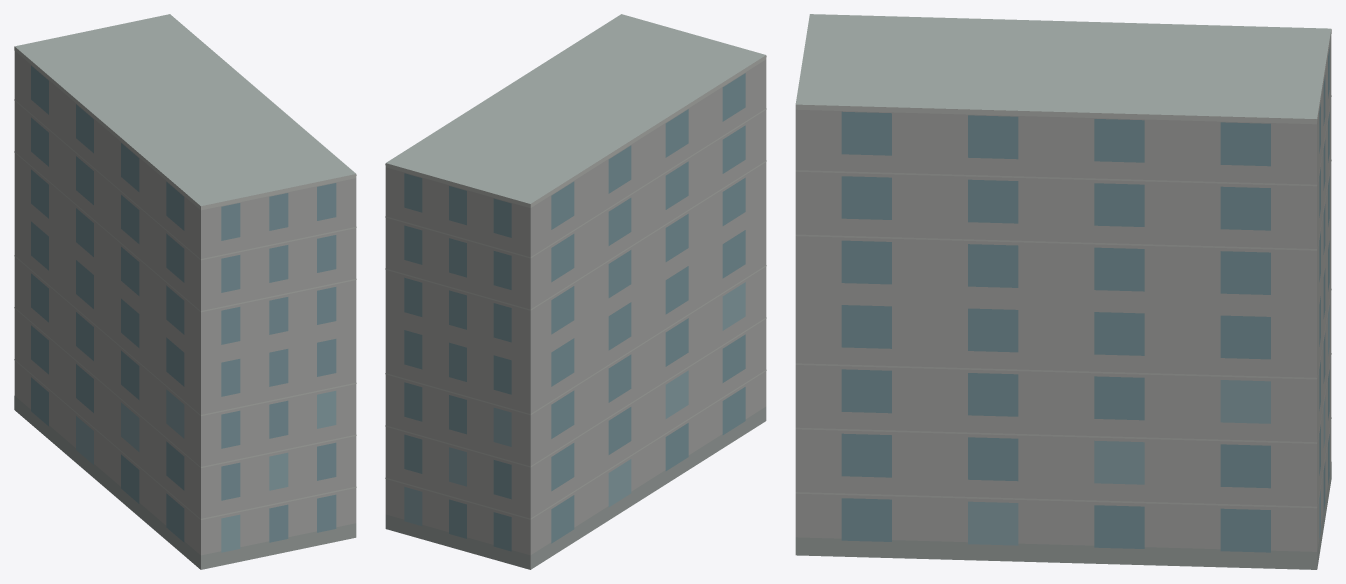
File: survey-upis-32765919.glb
3 views of the same model, side by side, from view 1: azimuth 30°, elevation 25°; view 2: azimuth 150°, elevation 25°; view 3: azimuth 270°, elevation 25° (orthographic). The views are drawn at different scales.
Visible parts, largest first — view 1: survey-upis-32765919.tmp; view 2: survey-upis-32765919.tmp; view 3: survey-upis-32765919.tmp.
Boxes of the visible parts, bbox=[...] form: survey-upis-32765919.tmp: bbox=[14, 14, 356, 569]; survey-upis-32765919.tmp: bbox=[385, 14, 766, 569]; survey-upis-32765919.tmp: bbox=[795, 14, 1331, 569].
Size of the model in its own units: 10.71 by 21.35 by 23.03.
